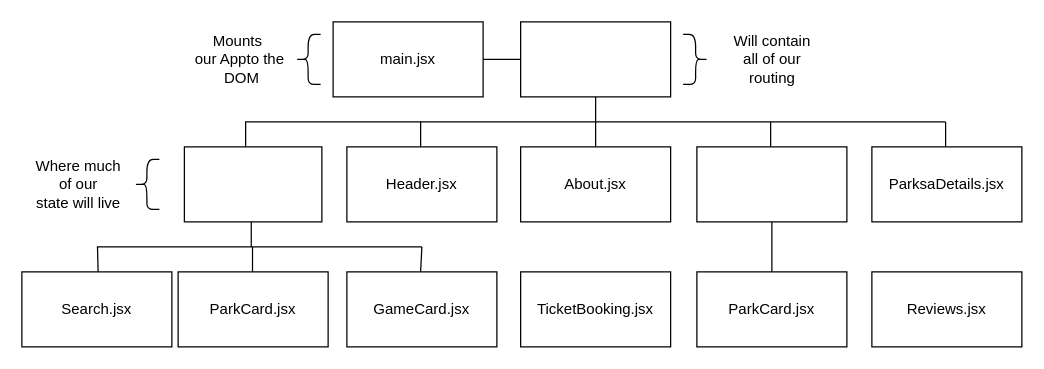
Image size: 1044x369. Some labels were removed from this diagram. Each missing label, with the centre of its shape:
"App.jsx" goes at (595,59).
"Home.jsx" goes at (252,184).
"ViewParks.jsx" goes at (771,184).
